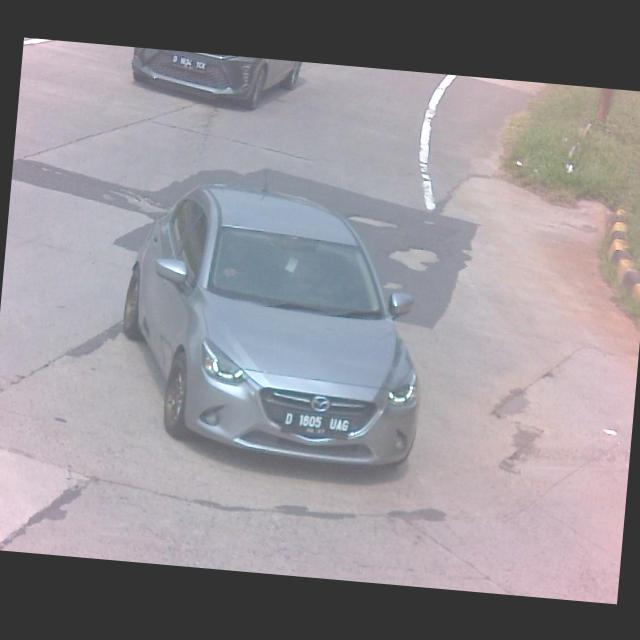plate: (279, 408, 352, 440)
